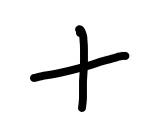plus: (25, 25, 128, 111)
